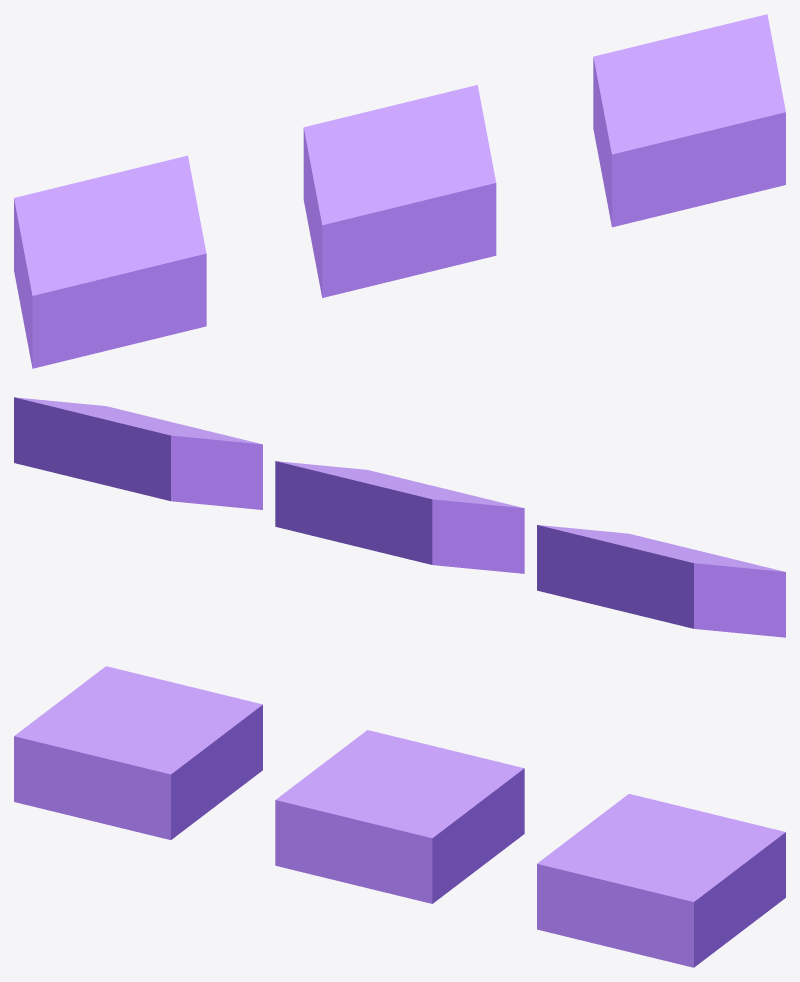
Rendered from Ghost_DashH.gltf.
3 renders of one model, top to bottom at view 1: azimuth 30°, elevation 25°; view 2: azimuth 150°, elevation 25°; view 3: azimuth 330°, elevation 25°, orthographic. The views are drawn at different scales.
Visible parts, largest first — view 1: Ghost_DashH_baked; view 2: Ghost_DashH_baked; view 3: Ghost_DashH_baked.
Boxes of the visible parts, left/top/right/bottom form: Ghost_DashH_baked: left=14, top=14, right=785, bottom=368; Ghost_DashH_baked: left=14, top=397, right=785, bottom=637; Ghost_DashH_baked: left=14, top=666, right=785, bottom=967.
Size of the model in its own units: 0.914 by 0.128 by 0.12.
